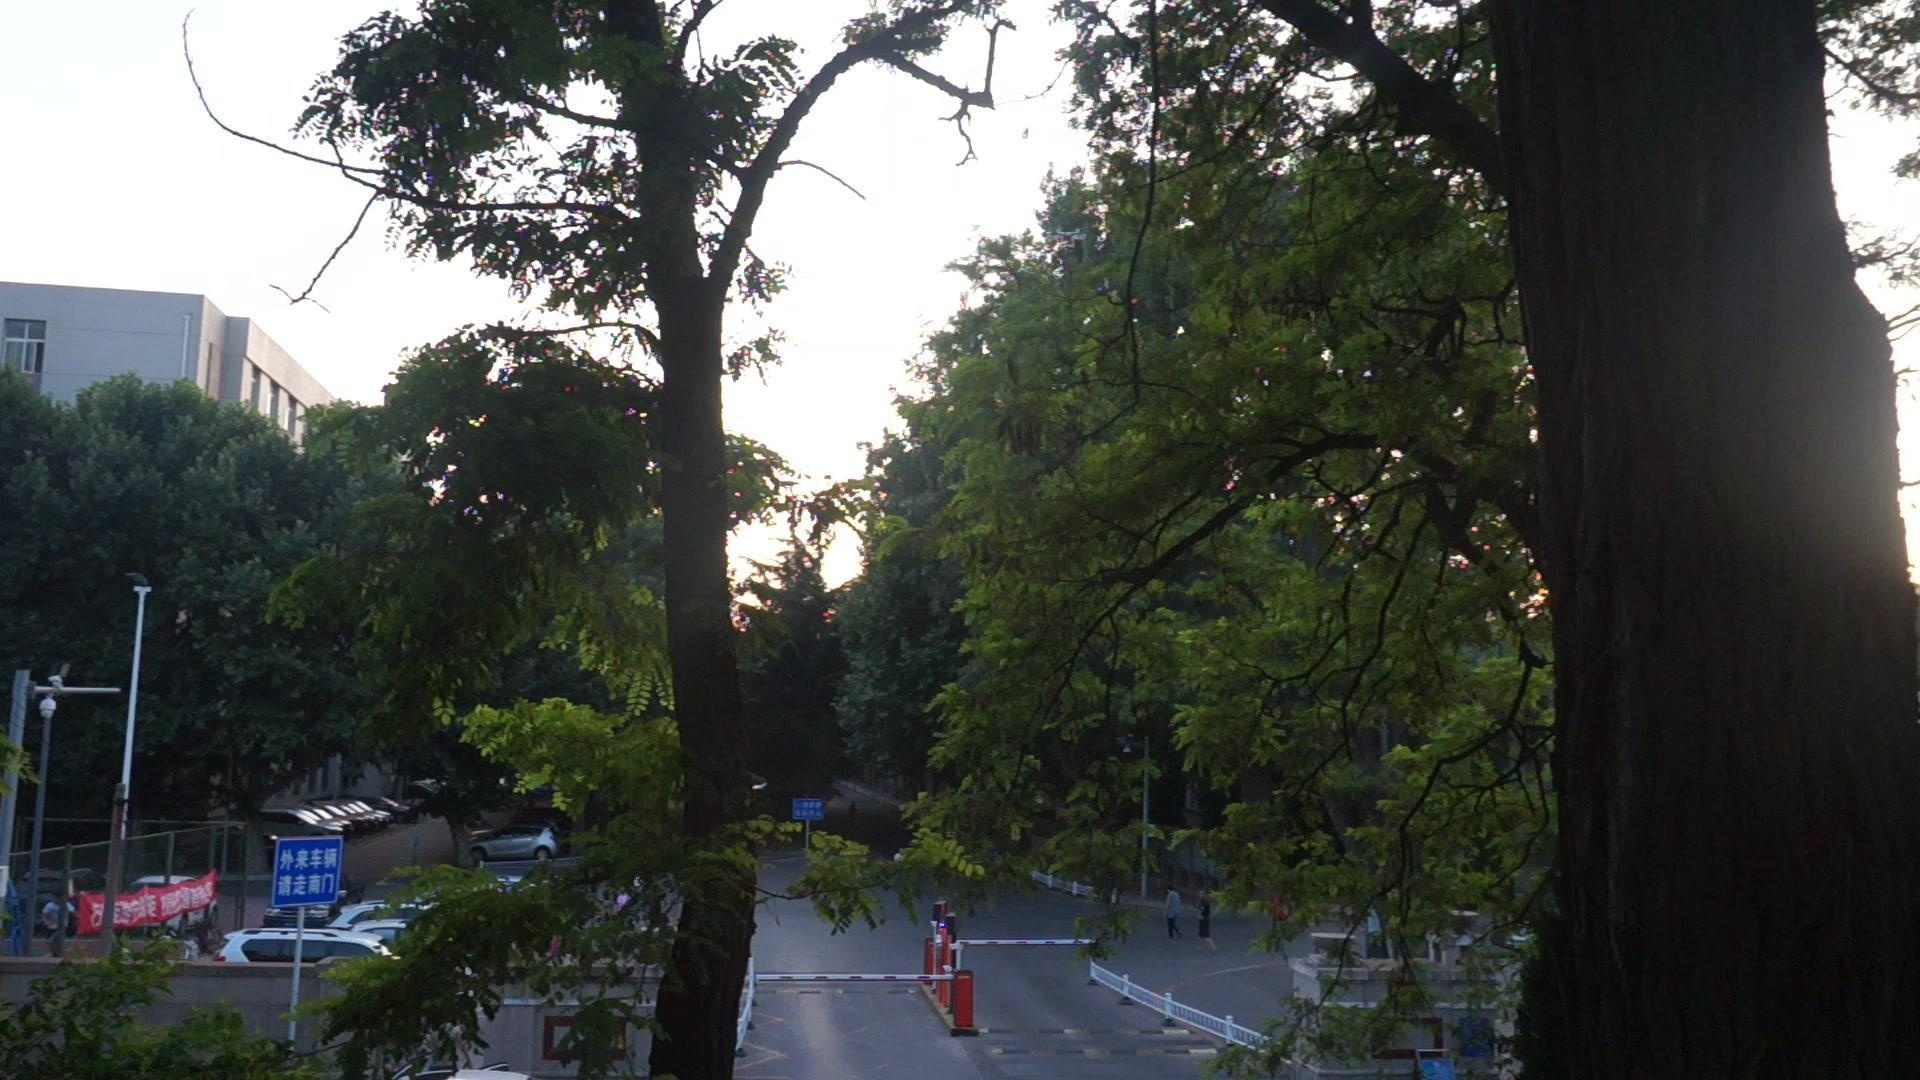UAV: (1048, 232, 1088, 253)
